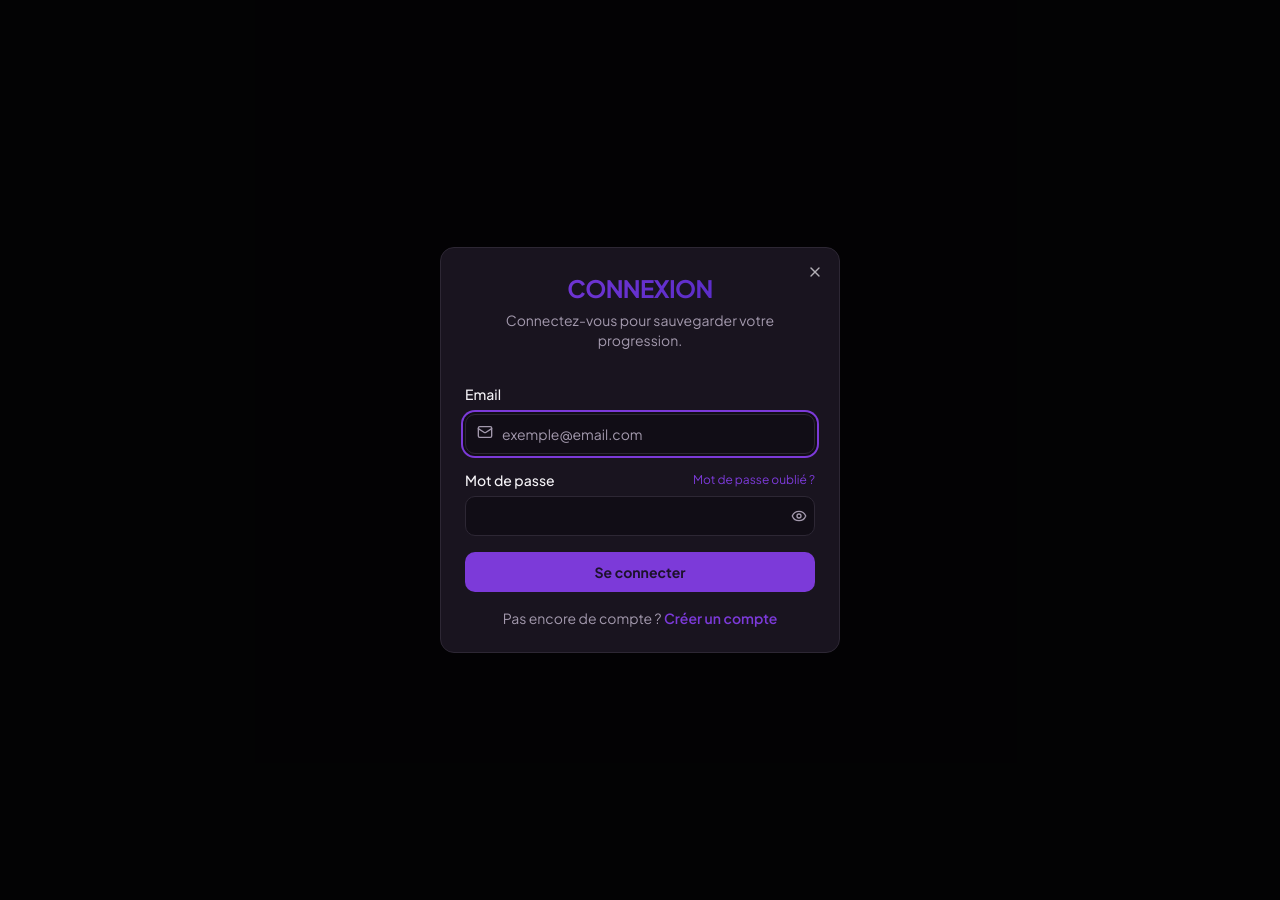
Test: AuthModal › maps Invalid login credentials to French
This screenshot has width=1280, height=900.
Type "ada@example.com" into the field labelled "Email" at {"x": 640, "y": 434}, box 465,414 -> 815,454
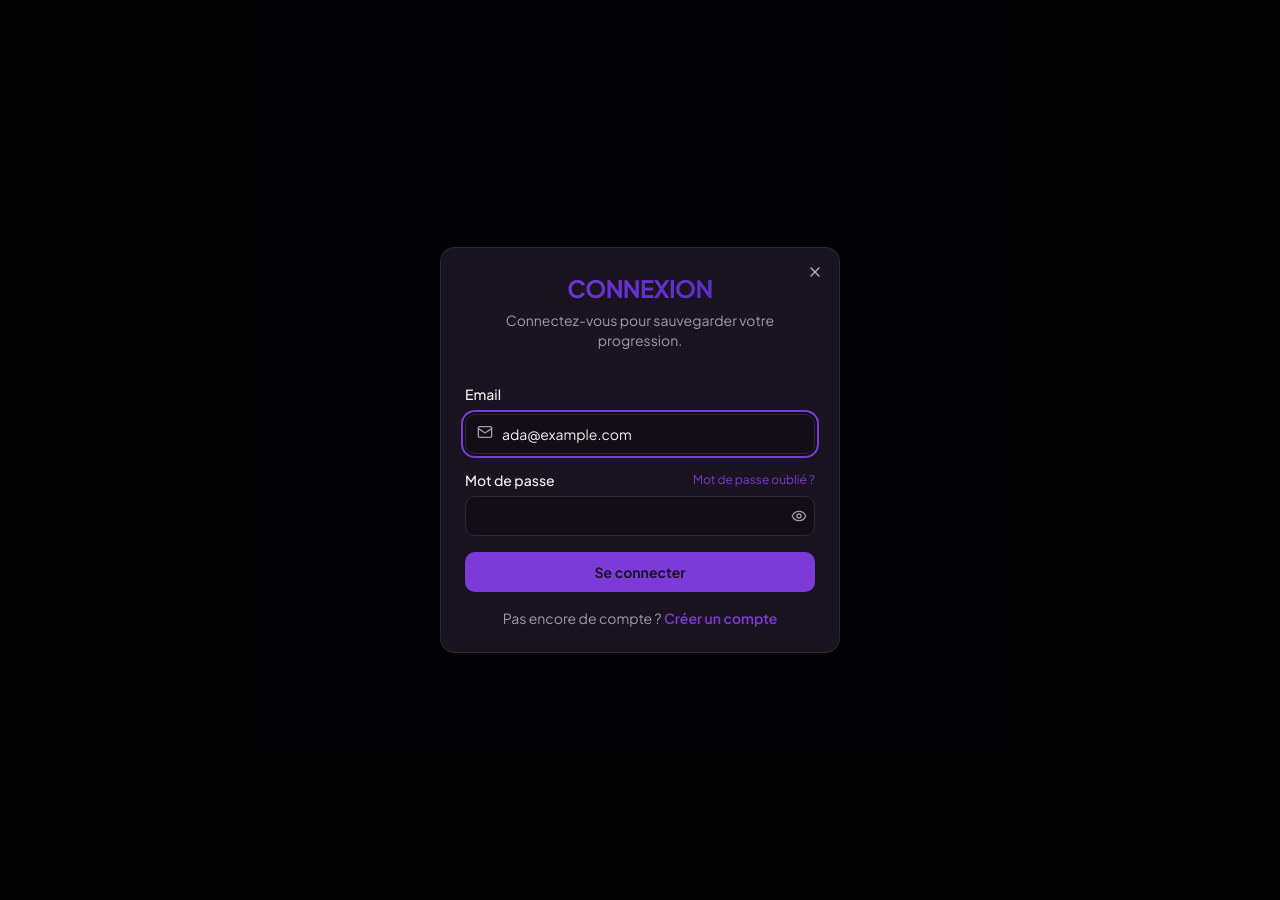
Type "Abcdef1!" into the password field labelled "Mot de passe" at {"x": 640, "y": 516}, box 465,496 -> 815,536
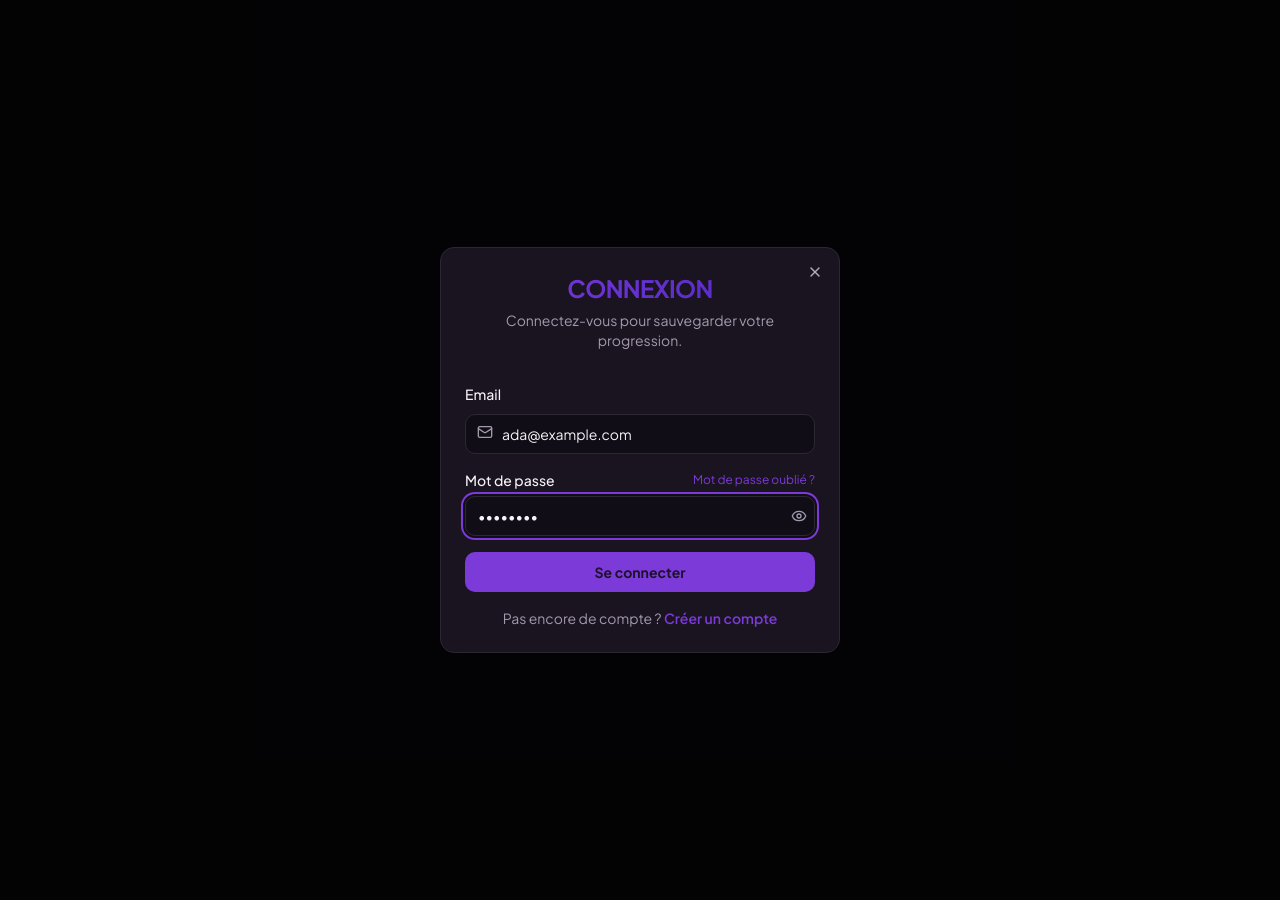
Click the button "Se connecter" at {"x": 640, "y": 572}, box 465,552 -> 815,592
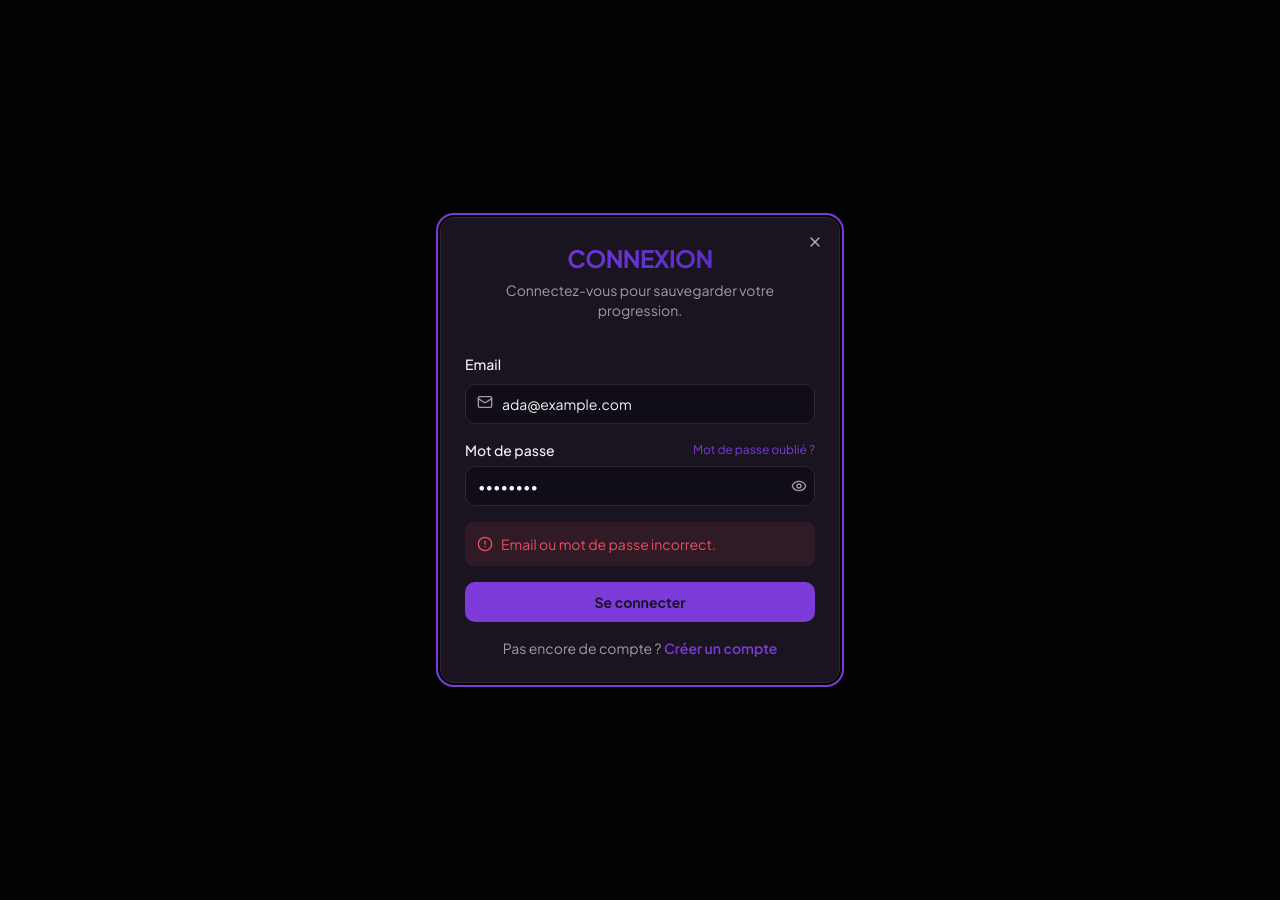
Check: the text "Email ou mot de passe incorrect." is shown, box 465,522 -> 815,566
